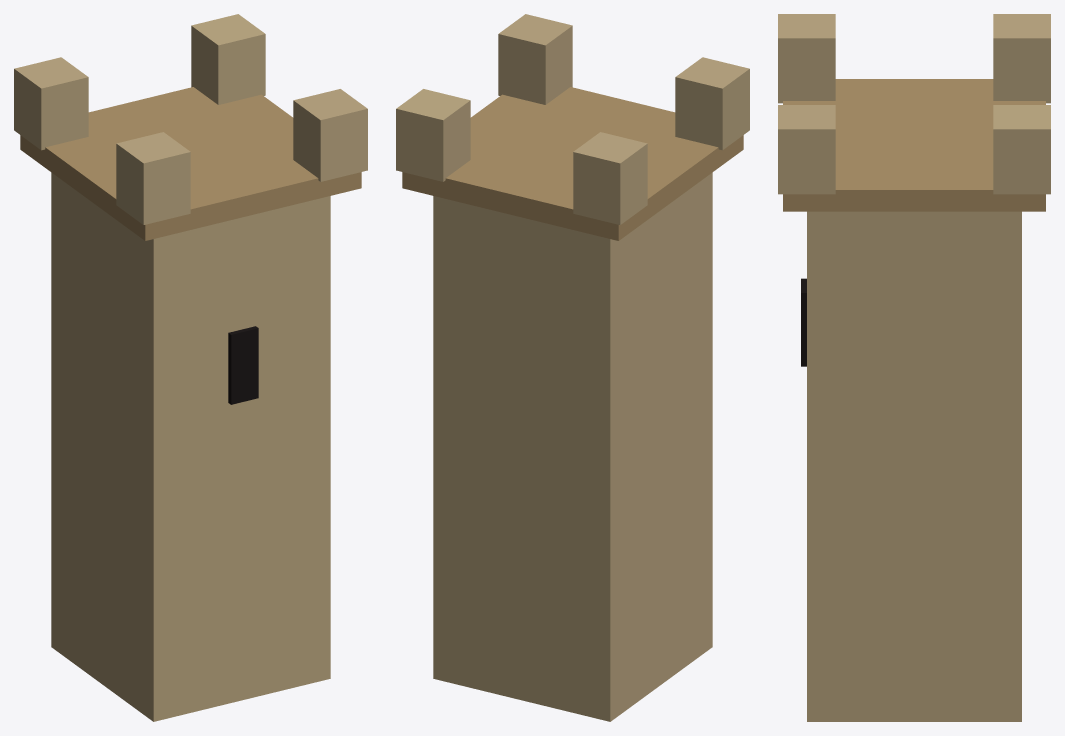
Rendered from fennec_tower_broken.glb.
3 renders of one model, left to right at view 1: azimuth 30°, elevation 25°; view 2: azimuth 150°, elevation 25°; view 3: azimuth 270°, elevation 25°, orthographic. The views are drawn at different scales.
Visible parts, largest first — view 1: fennec_tower_piece3, fennec_tower_piece4, fennec_tower_piece1, fennec_tower_piece0, fennec_tower_piece8, fennec_tower_piece9, fennec_tower_piece6, fennec_tower_piece7, fennec_tower_piece2; view 2: fennec_tower_piece1, fennec_tower_piece0, fennec_tower_piece2, fennec_tower_piece4, fennec_tower_piece3, fennec_tower_piece6, fennec_tower_piece7, fennec_tower_piece9, fennec_tower_piece5, fennec_tower_piece8; view 3: fennec_tower_piece2, fennec_tower_piece5, fennec_tower_piece0, fennec_tower_piece4, fennec_tower_piece6, fennec_tower_piece3, fennec_tower_piece9, fennec_tower_piece8.
Part boxes in pixels (left/top/right/bottom): fennec_tower_piece3: left=74, top=289, right=330, bottom=632; fennec_tower_piece4: left=14, top=57, right=336, bottom=353; fennec_tower_piece1: left=51, top=344, right=272, bottom=718; fennec_tower_piece0: left=51, top=14, right=293, bottom=316; fennec_tower_piece8: left=129, top=474, right=330, bottom=721; fennec_tower_piece9: left=211, top=89, right=367, bottom=273; fennec_tower_piece6: left=51, top=219, right=330, bottom=362; fennec_tower_piece7: left=20, top=141, right=224, bottom=375; fennec_tower_piece2: left=270, top=542, right=330, bottom=693; fennec_tower_piece1: left=525, top=376, right=709, bottom=721; fennec_tower_piece0: left=396, top=89, right=651, bottom=385; fennec_tower_piece2: left=433, top=374, right=531, bottom=702; fennec_tower_piece4: left=554, top=21, right=749, bottom=278; fennec_tower_piece3: left=633, top=301, right=712, bottom=575; fennec_tower_piece6: left=433, top=280, right=669, bottom=418; fennec_tower_piece7: left=570, top=199, right=712, bottom=349; fennec_tower_piece9: left=477, top=14, right=585, bottom=137; fennec_tower_piece5: left=433, top=331, right=519, bottom=465; fennec_tower_piece8: left=688, top=558, right=712, bottom=649; fennec_tower_piece2: left=807, top=498, right=1021, bottom=721; fennec_tower_piece5: left=807, top=333, right=1021, bottom=600; fennec_tower_piece0: left=866, top=104, right=1050, bottom=302; fennec_tower_piece4: left=778, top=14, right=1050, bottom=148; fennec_tower_piece6: left=801, top=238, right=1021, bottom=355; fennec_tower_piece3: left=801, top=289, right=912, bottom=506; fennec_tower_piece9: left=778, top=105, right=889, bottom=255; fennec_tower_piece8: left=807, top=506, right=827, bottom=550.
Size of the model in its own units: 1.14 by 2.79 by 1.14.
